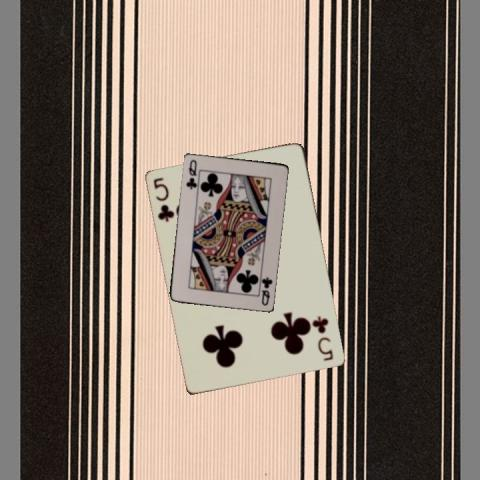5c: (311, 313, 335, 363), (151, 175, 176, 223)
Qc: (183, 156, 198, 190), (259, 274, 273, 307)
